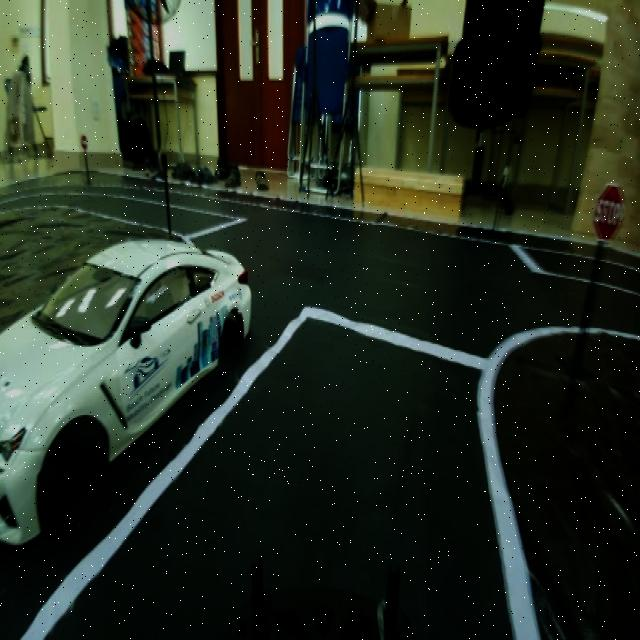car: (0, 261, 275, 522)
stop: (589, 178, 627, 248)
